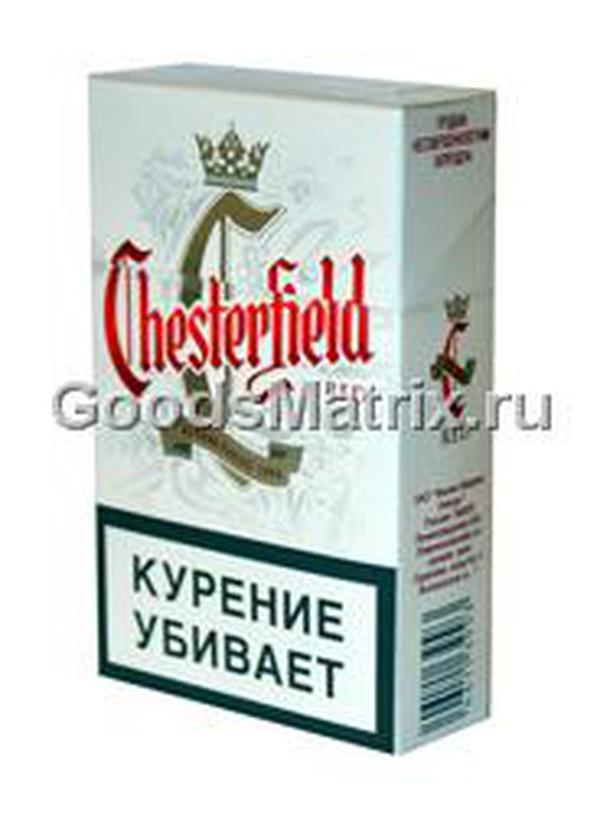chesterfield_red: (96, 106, 403, 677)
